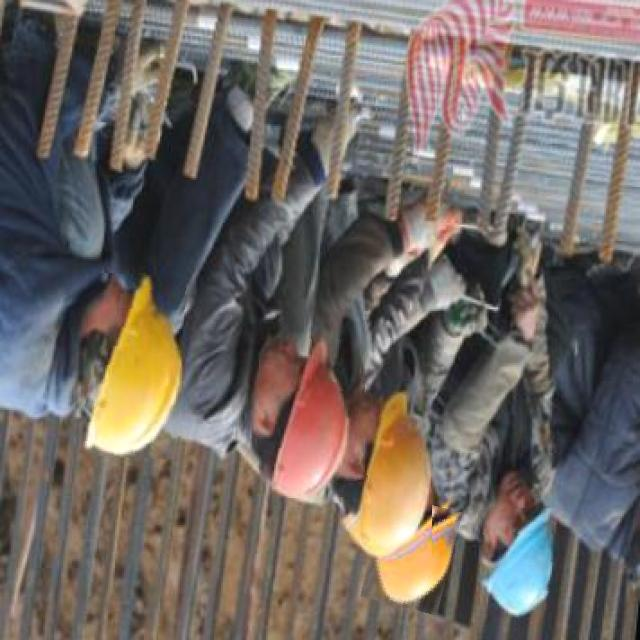helmet: (86, 274, 184, 459), (339, 390, 432, 559), (271, 338, 349, 502), (366, 498, 457, 611), (479, 508, 557, 619)
